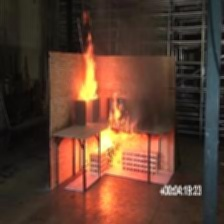fire: (64, 31, 110, 115), (98, 100, 142, 173)
